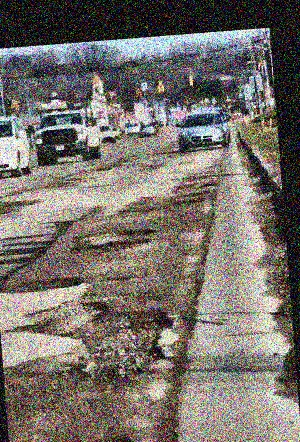pothole: (79, 305, 180, 385), (36, 298, 110, 337), (69, 236, 155, 261), (0, 273, 87, 297), (76, 225, 156, 238), (49, 435, 131, 442), (117, 205, 157, 217)
